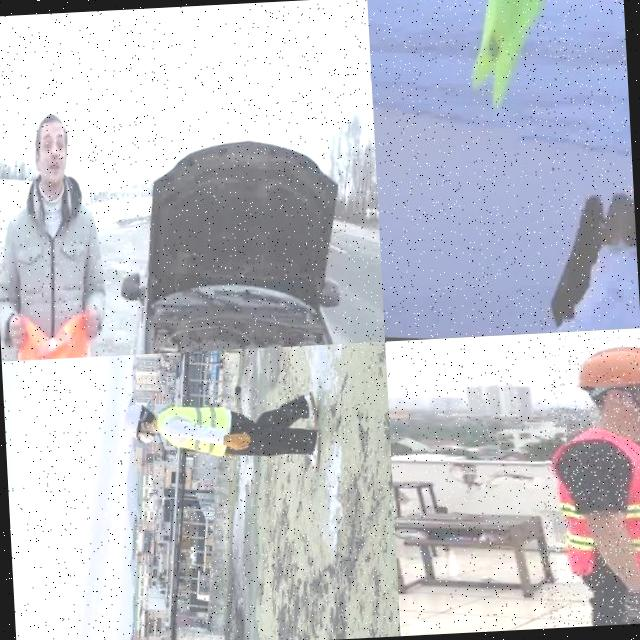boots: (301, 428, 325, 476), (298, 388, 322, 429)
helmet: (567, 337, 640, 399), (120, 400, 146, 440)
vest: (539, 420, 640, 586), (0, 295, 115, 362), (152, 400, 235, 464)
